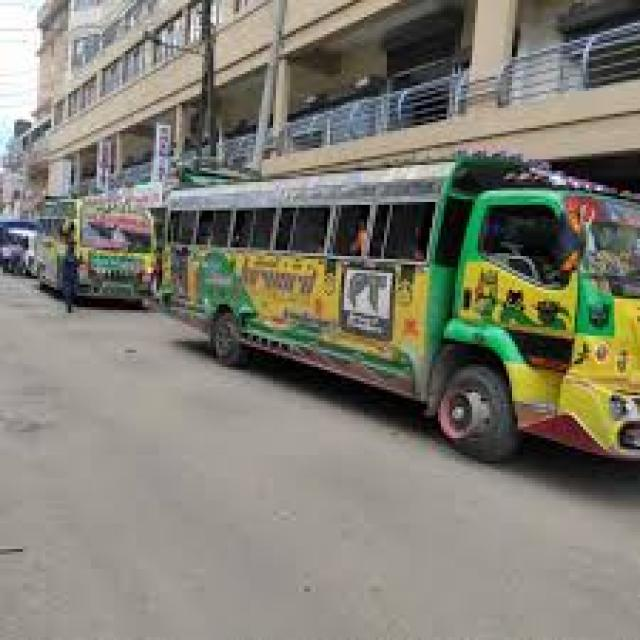bus: (152, 110, 640, 477), (15, 182, 174, 322)
